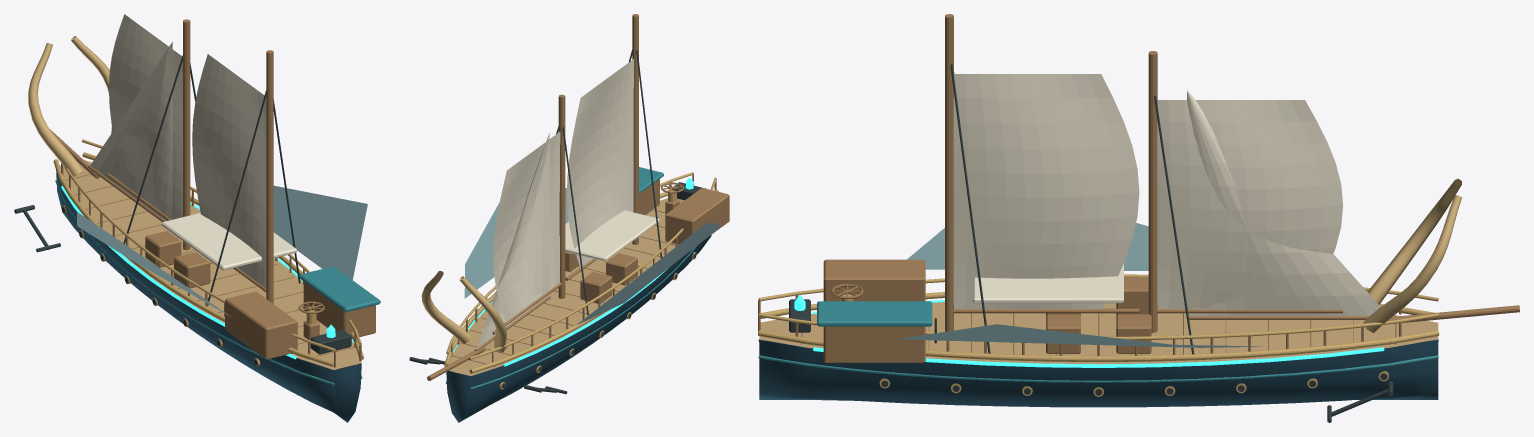
Rendered from premium_imperial_yacht.glb.
3 views of the same model, side by side, from view 1: azimuth 30°, elevation 25°; view 2: azimuth 150°, elevation 25°; view 3: azimuth 270°, elevation 25° (orthographic). The views are drawn at different scales.
Visible parts, largest first — view 1: premium_imperial_yacht; view 2: premium_imperial_yacht; view 3: premium_imperial_yacht.
Part boxes in pixels (left/top/right/bottom): premium_imperial_yacht: left=14, top=14, right=380, bottom=422; premium_imperial_yacht: left=409, top=14, right=729, bottom=422; premium_imperial_yacht: left=758, top=14, right=1519, bottom=422.
Size of the model in its own units: 6.59 by 8.43 by 15.15.
